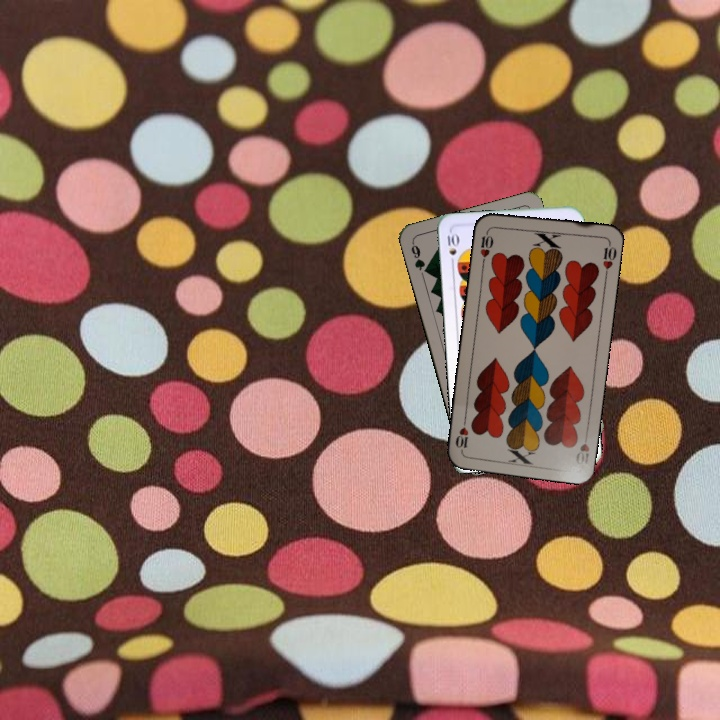G9: (407, 239, 432, 277)
H10: (571, 427, 592, 468), (476, 225, 496, 266)
S10: (443, 229, 461, 268)
